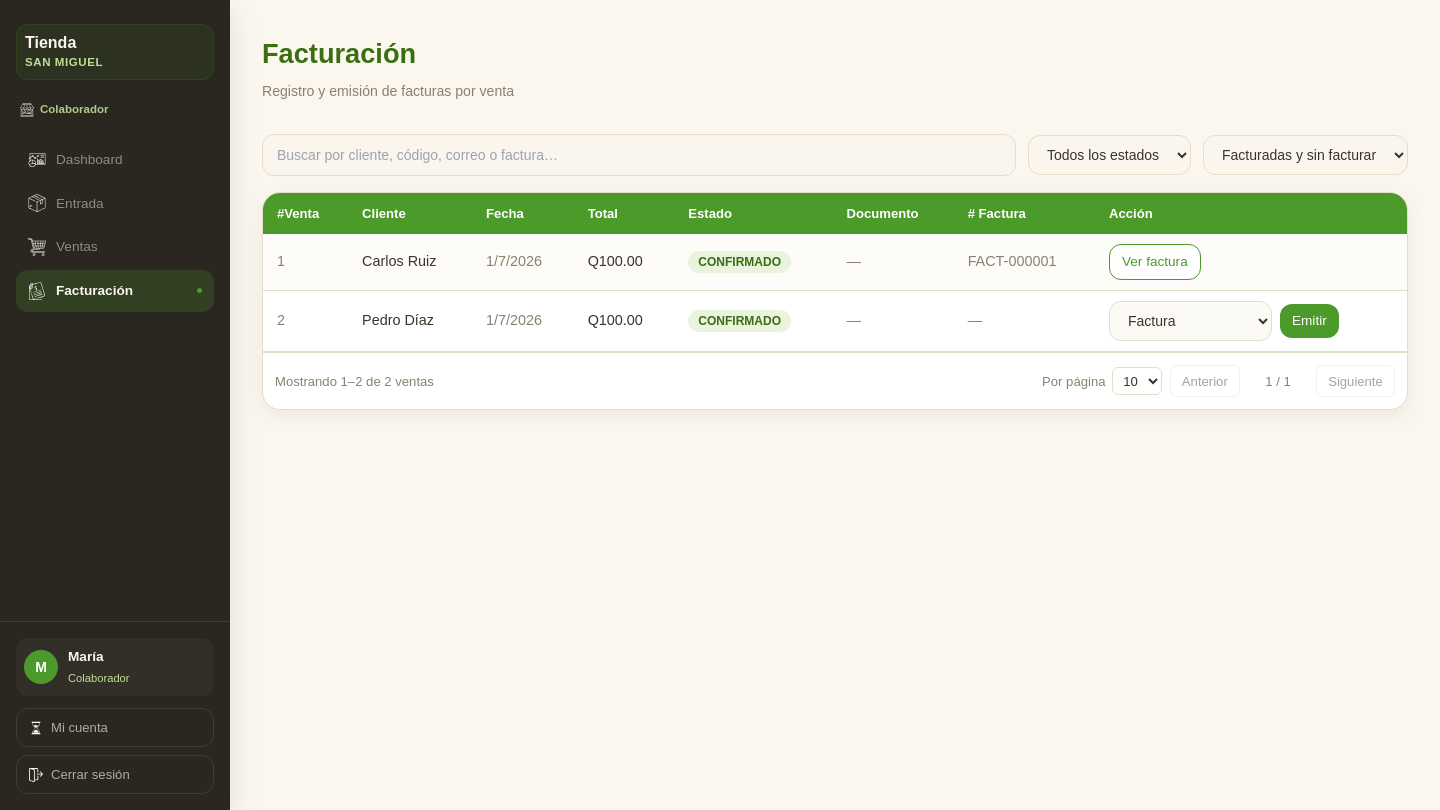
Test: FacturacionPage › filters rows by facturación state (sin facturar / facturadas)
Expected: the text "Carlos Ruiz" is shown, [348,234,472,290]
Select "Sin facturar" in the dropdown named "Filtrar por facturación" at (1306, 155), box [1203,135,1408,175]
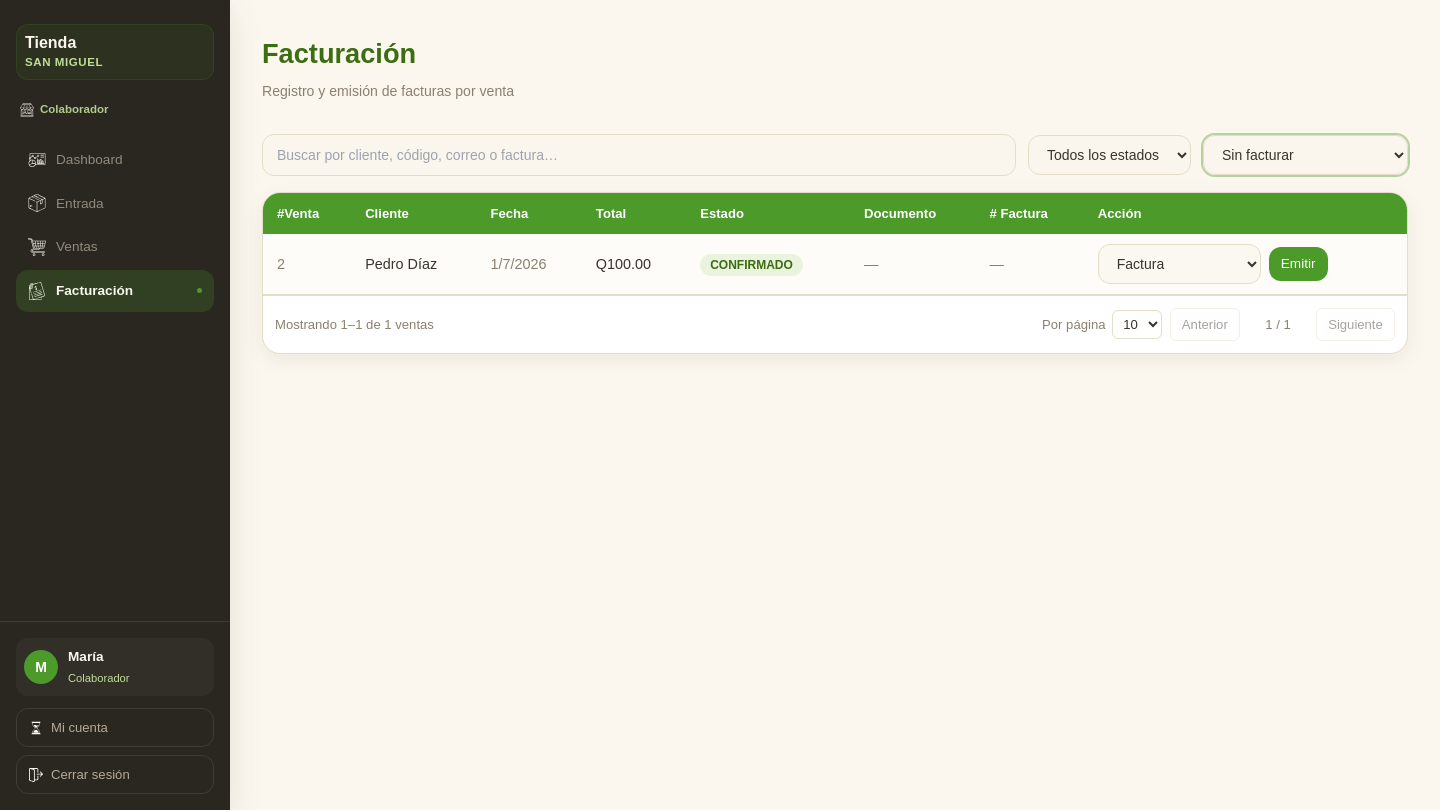
Expected: the text "Pedro Díaz" is shown, [351,234,476,294]
Result: the text "Carlos Ruiz" is gone
Select "Facturadas" in the dropdown named "Filtrar por facturación" at (1306, 155), box [1203,135,1408,175]
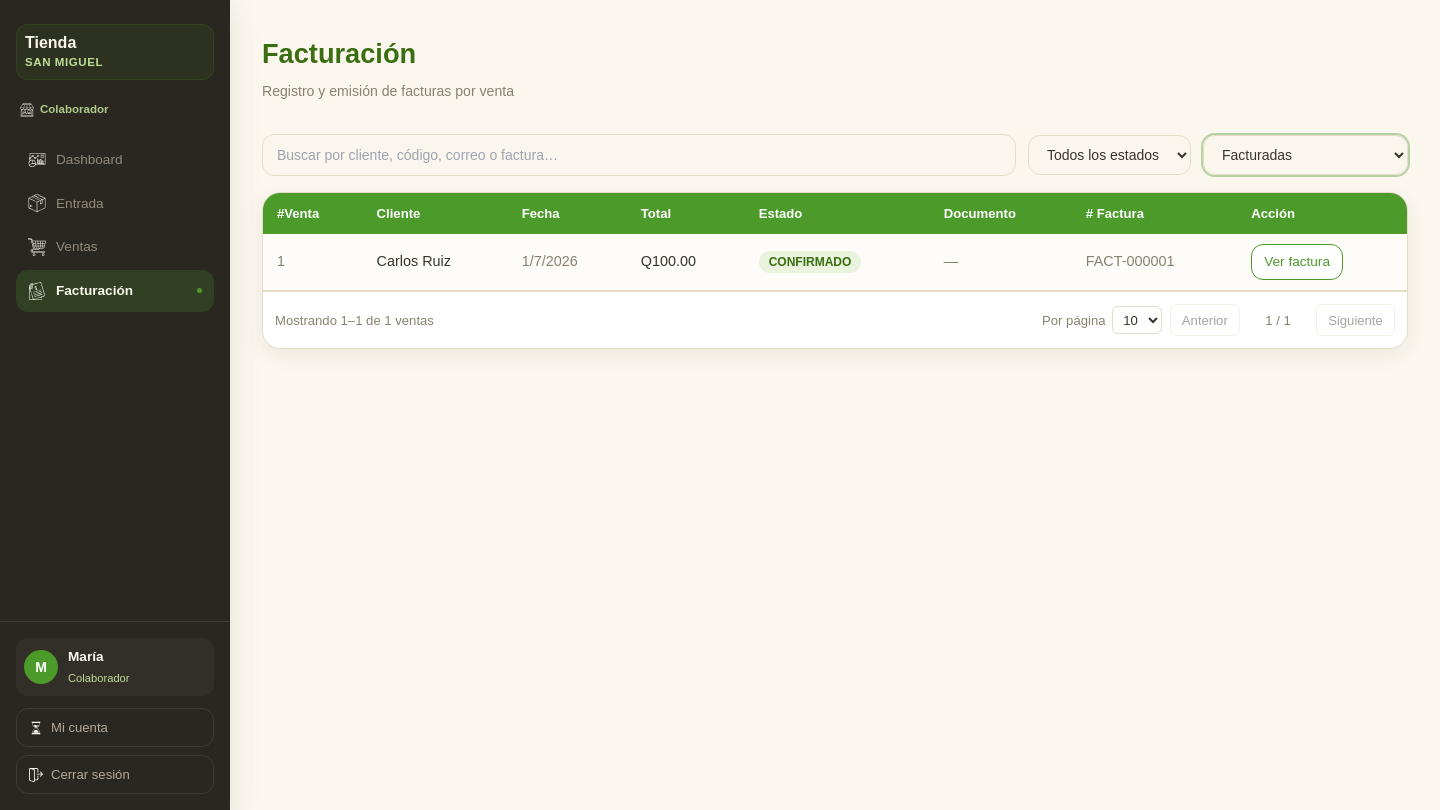
Result: the text "Carlos Ruiz" is shown at [363,234,508,290]
Result: the text "Pedro Díaz" is gone
